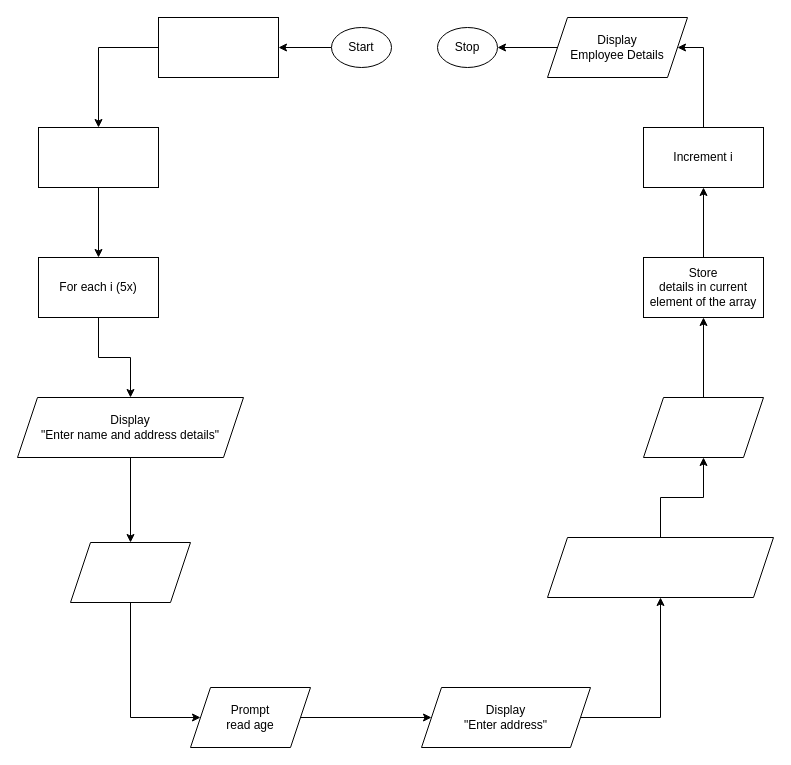
This 791x765 diagram has some shape labels left out. Each missing label, with the box of its shape:
Declare Employee Array: (158, 16, 278, 78)
Initialise Loop Counter (i=0): (38, 126, 158, 188)
Prompt read name: (70, 542, 190, 602)
Prompt read salary: (642, 396, 764, 458)
Prompt read street, city and state of address: (546, 536, 774, 598)
